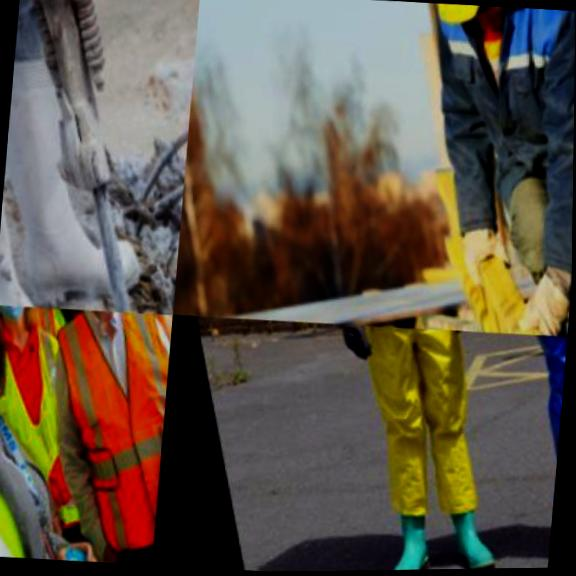safety_vest: (269, 318, 526, 544), (393, 0, 576, 224), (25, 306, 172, 567), (435, 329, 567, 527), (0, 316, 90, 510), (0, 346, 59, 560), (26, 306, 95, 346)
